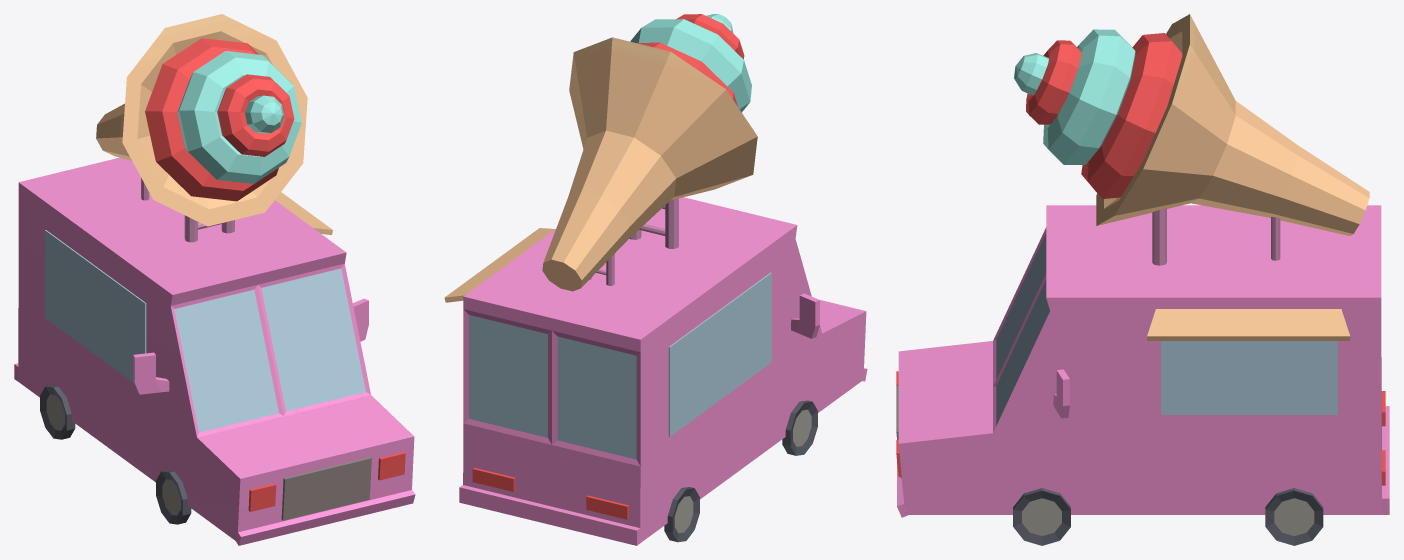
The model's file is icecream_car.fbx.
3 views of the same model, side by side, from view 1: azimuth 30°, elevation 25°; view 2: azimuth 150°, elevation 25°; view 3: azimuth 270°, elevation 25° (orthographic). The views are drawn at different scales.
Visible parts, largest first — view 1: Icecream_car; view 2: Icecream_car; view 3: Icecream_car.
Part boxes in pixels (left/top/right/bottom): Icecream_car: left=14, top=14, right=415, bottom=545; Icecream_car: left=444, top=14, right=867, bottom=545; Icecream_car: left=896, top=14, right=1389, bottom=545.
Size of the model in its own units: 20.42 by 33.85 by 35.43.
